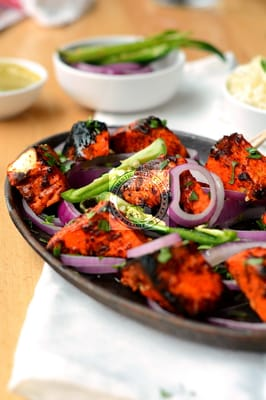curry: (62, 139, 168, 207)
sushi: (4, 69, 266, 370), (52, 30, 185, 114), (222, 53, 266, 143), (0, 56, 49, 121)
